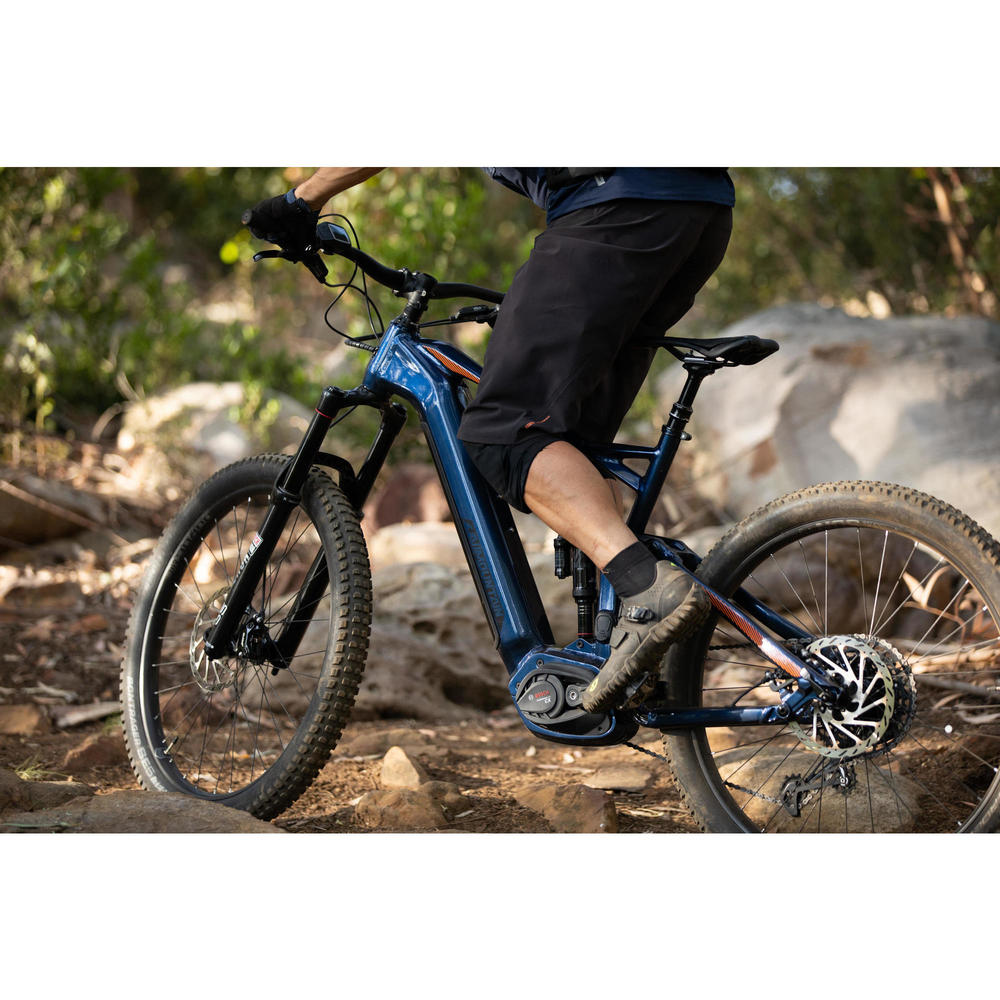MountainBike: (121, 175, 1000, 837)
